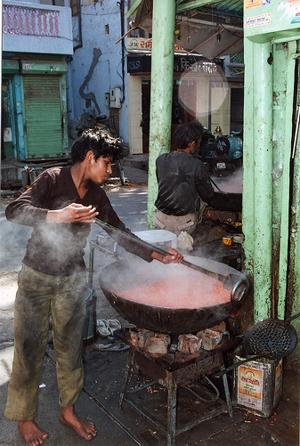person: (6, 133, 181, 446)
